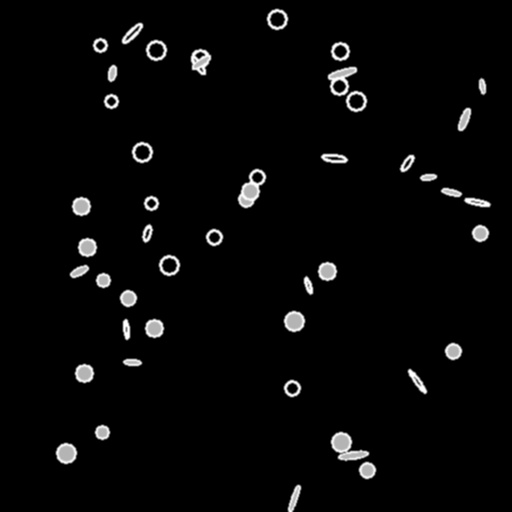pseudomonas: (120, 21, 144, 45), (407, 369, 427, 393), (327, 66, 357, 80), (287, 484, 301, 512), (191, 53, 211, 71), (457, 107, 471, 131), (190, 55, 206, 75), (338, 450, 368, 460), (399, 154, 415, 172), (69, 264, 89, 278), (465, 197, 489, 207), (141, 224, 153, 242), (322, 154, 346, 162), (303, 277, 313, 293), (122, 319, 130, 339), (107, 65, 117, 81), (442, 188, 460, 196), (478, 78, 486, 94), (123, 359, 141, 365), (420, 174, 436, 180)
synechocystis: (133, 143, 151, 161), (285, 312, 303, 330), (160, 256, 178, 274), (347, 92, 365, 110), (57, 444, 75, 462), (147, 41, 165, 59), (268, 10, 286, 28), (332, 433, 350, 451), (319, 263, 335, 279), (192, 50, 208, 66), (73, 198, 89, 214), (242, 183, 258, 199), (331, 78, 347, 94), (76, 365, 92, 381), (79, 239, 95, 255), (332, 43, 348, 59), (146, 320, 162, 336), (121, 291, 135, 305), (446, 344, 460, 358), (239, 192, 253, 206), (207, 230, 221, 244), (285, 381, 299, 395), (473, 226, 487, 240), (360, 463, 374, 477), (250, 170, 264, 184), (96, 426, 108, 438), (97, 274, 109, 286), (94, 39, 106, 51), (145, 197, 157, 209), (105, 95, 117, 107)
